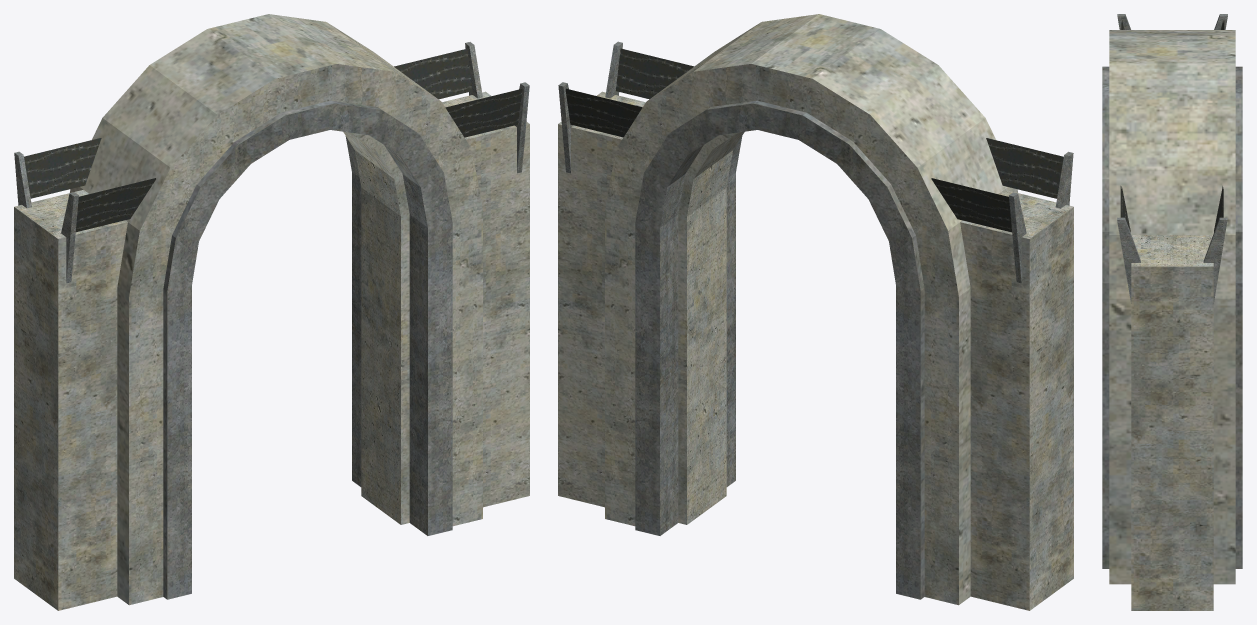
Rendered from thm_corl_imprv_arch_sm_s03_l0.fbx.
3 views of the same model, side by side, from view 1: azimuth 30°, elevation 25°; view 2: azimuth 150°, elevation 25°; view 3: azimuth 270°, elevation 25° (orthographic). The views are drawn at different scales.
Visible parts, largest first — view 1: mesh_node; view 2: mesh_node; view 3: mesh_node.
Boxes of the visible parts, x1=… form: mesh_node: x1=14, y1=14, x2=529, y2=610; mesh_node: x1=558, y1=14, x2=1073, y2=610; mesh_node: x1=1102, y1=14, x2=1242, y2=610.
Size of the model in its own units: 8 by 7.95 by 2.23.
